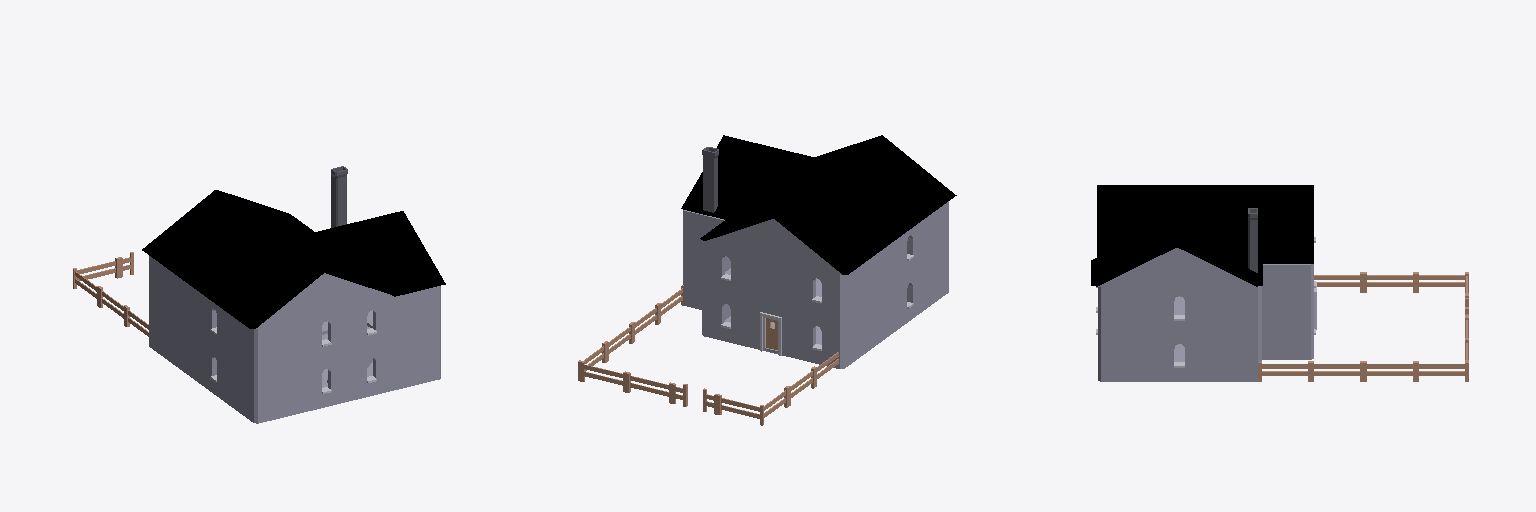
File: Library.obj
The picture shows the model from 3 angles: view 1: azimuth 30°, elevation 25°; view 2: azimuth 150°, elevation 25°; view 3: azimuth 270°, elevation 25°; orthographic projection.
Size of the model in its own units: 4.27 by 3.33 by 7.18.